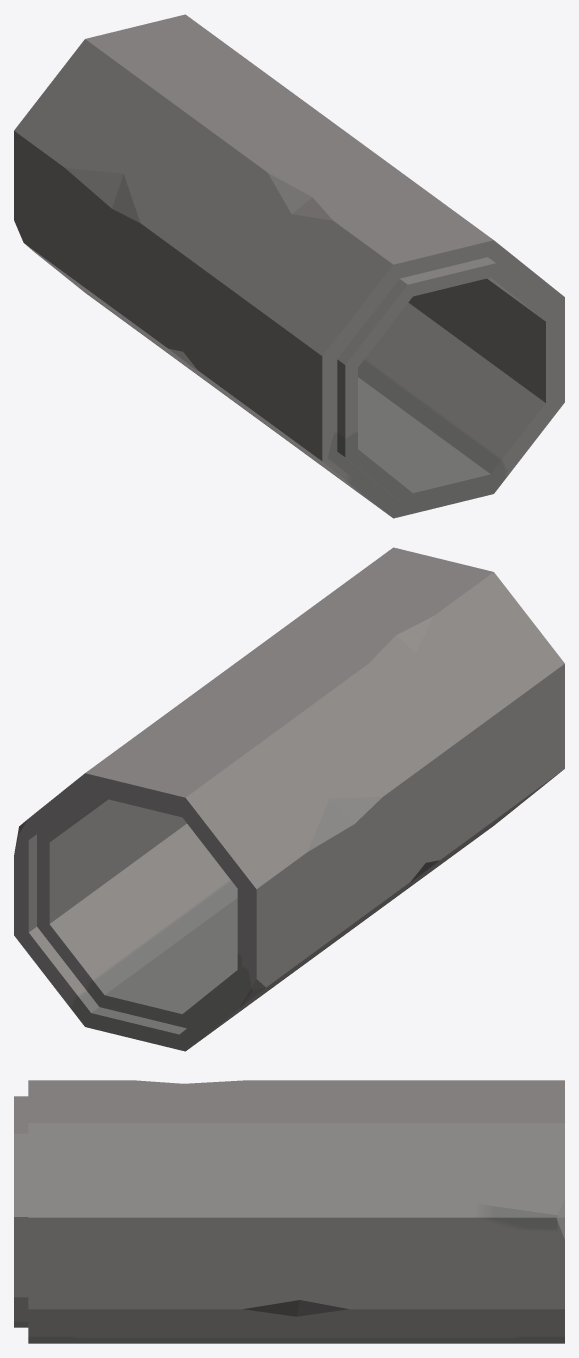
The model's file is SM_Prop_Pipe_Concrete_Huge_01.fbx.
3 renders of one model, top to bottom at view 1: azimuth 30°, elevation 25°; view 2: azimuth 150°, elevation 25°; view 3: azimuth 270°, elevation 25°, orthographic. The views are drawn at different scales.
Visible parts, largest first — view 1: SM_Prop_Pipe_Concrete_Huge_01; view 2: SM_Prop_Pipe_Concrete_Huge_01; view 3: SM_Prop_Pipe_Concrete_Huge_01.
Part boxes in pixels (box(x1,y1,x2,y2)): SM_Prop_Pipe_Concrete_Huge_01: box(14, 14, 564, 518); SM_Prop_Pipe_Concrete_Huge_01: box(14, 547, 564, 1051); SM_Prop_Pipe_Concrete_Huge_01: box(14, 1080, 564, 1343).
Size of the model in its own units: 227 by 227 by 513.
